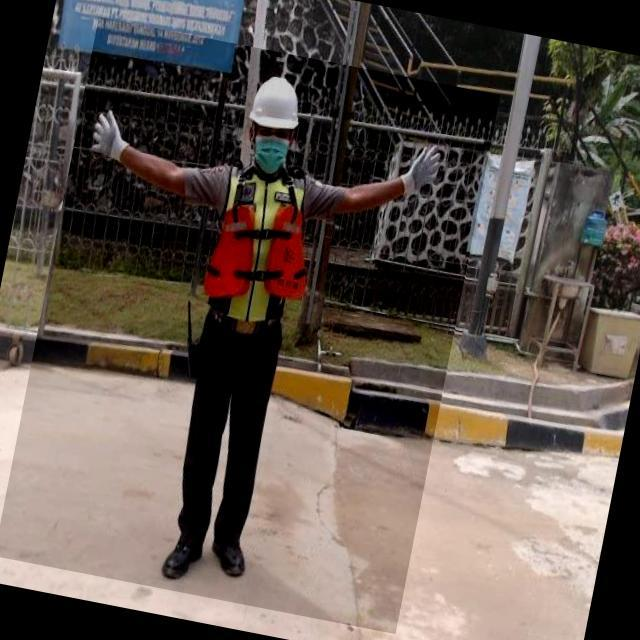Helmet: (246, 71, 319, 144)
Human: (0, 18, 501, 636)
Safety Boot: (157, 513, 216, 590), (209, 519, 261, 590)
Safety Vest: (196, 156, 331, 333)
